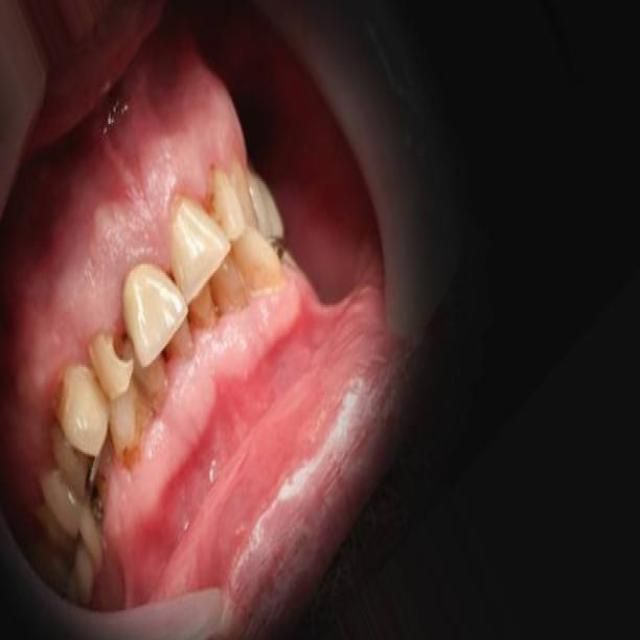caries: (102, 309, 142, 380), (47, 366, 80, 431), (117, 434, 149, 480)
